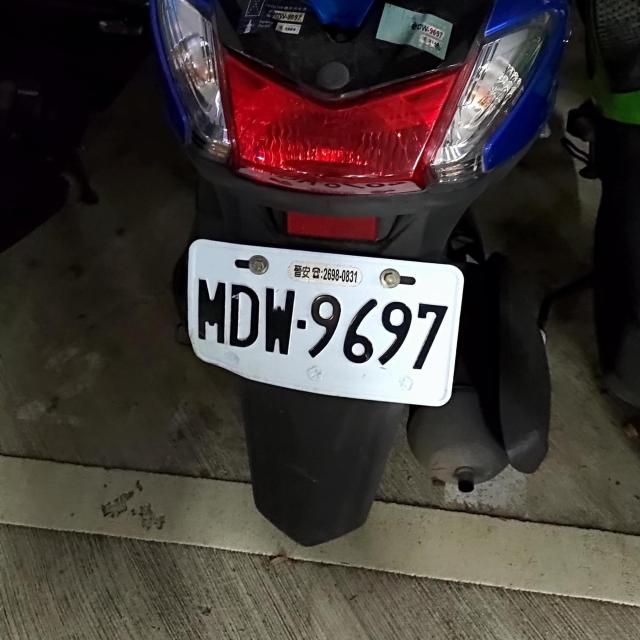W: (172, 236, 469, 408)
